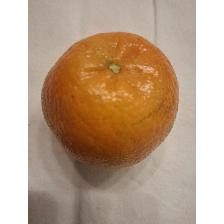Mandarine: (40, 31, 180, 169)
